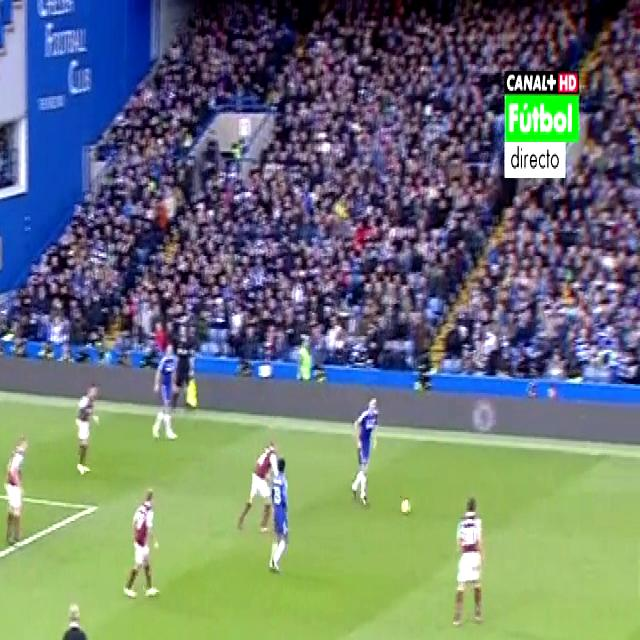ball: (396, 485, 414, 521)
referee: (170, 325, 198, 429), (53, 581, 98, 640)
soccer-player: (448, 482, 494, 633), (120, 481, 165, 608), (259, 437, 298, 578), (235, 426, 277, 541), (349, 386, 383, 516), (0, 425, 29, 562), (70, 369, 103, 482), (152, 338, 182, 446)
